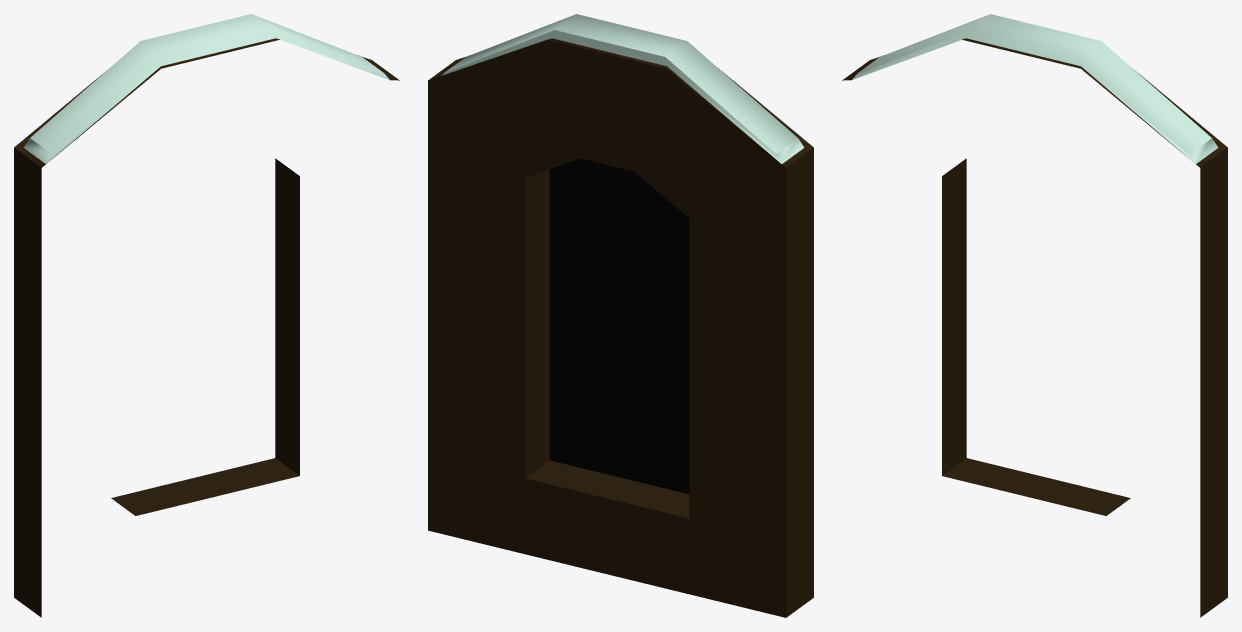
Rendered from winter-castle-window-v2.glb.
3 views of the same model, side by side, from view 1: azimuth 30°, elevation 25°; view 2: azimuth 150°, elevation 25°; view 3: azimuth 330°, elevation 25° (orthographic).
Visible parts, largest first — view 1: WinterCastleWindow_v2; view 2: WinterCastleWindow_v2; view 3: WinterCastleWindow_v2.
Boxes of the visible parts, x1=… form: WinterCastleWindow_v2: x1=14, y1=14, x2=399, y2=617; WinterCastleWindow_v2: x1=428, y1=14, x2=813, y2=617; WinterCastleWindow_v2: x1=842, y1=14, x2=1227, y2=617.
Bounding box in the file's own units: 91.19 × 129 × 12.26.
Materials: 1 (1 with a texture image).
